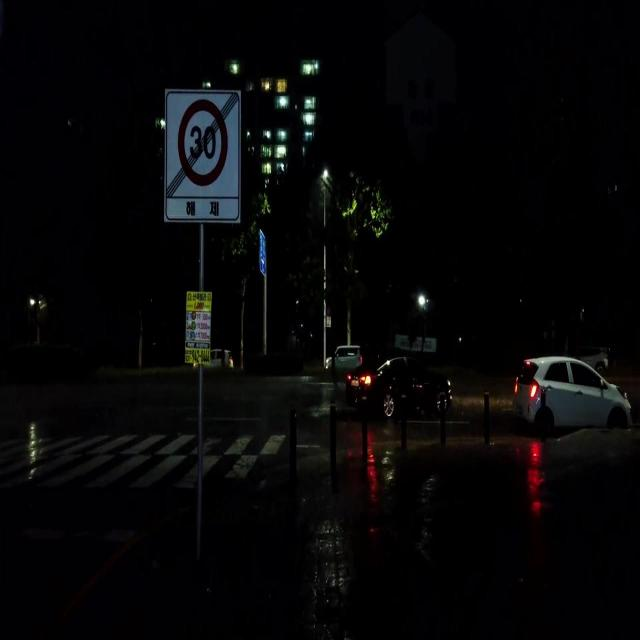Car: (511, 351, 630, 435), (342, 353, 449, 424), (321, 340, 361, 372)
